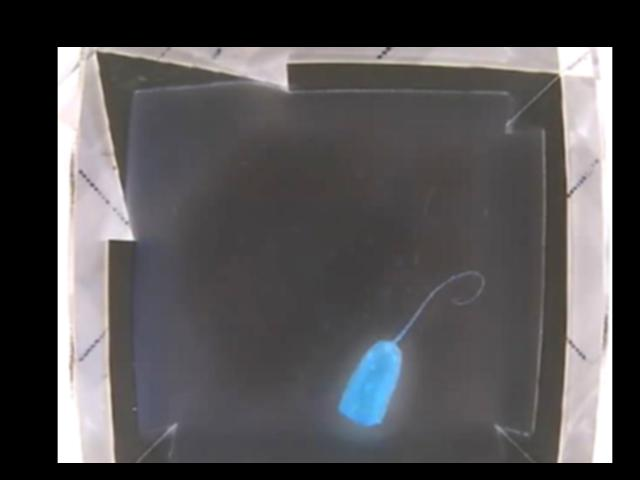Carrot: (340, 342, 400, 420)
